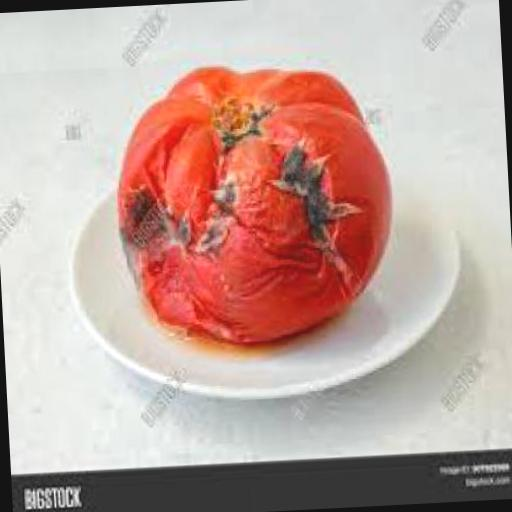biodegradable: (108, 50, 398, 348)
